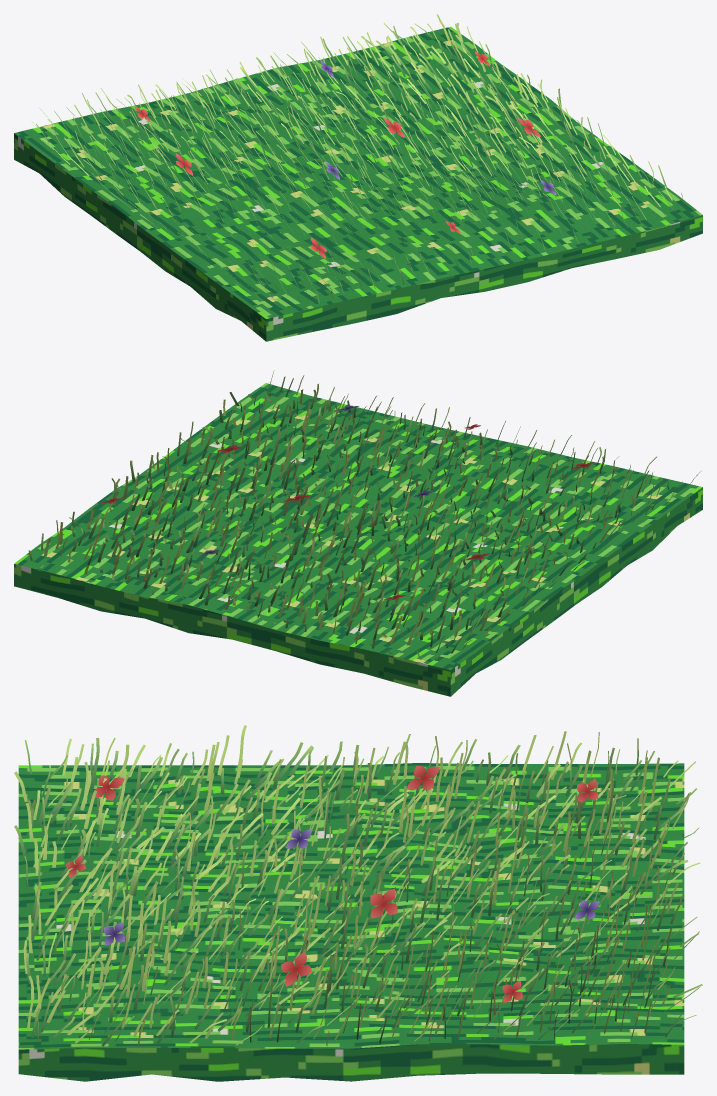
File: Grass With Flowers.fbx
The picture shows the model from 3 angles, top to bottom: view 1: azimuth 30°, elevation 25°; view 2: azimuth 150°, elevation 25°; view 3: azimuth 270°, elevation 25°; orthographic projection. The views are drawn at different scales.
Visible parts, largest first — view 1: Grass_With_FLowers; view 2: Grass_With_FLowers; view 3: Grass_With_FLowers.
Part boxes in pixels (x1,y1,x2,y2): Grass_With_FLowers: (14, 14, 702, 341); Grass_With_FLowers: (14, 370, 702, 696); Grass_With_FLowers: (14, 725, 702, 1081).
Bounding box in the file's own units: 102 × 13.8 × 104.
1 material, 1 textured.
